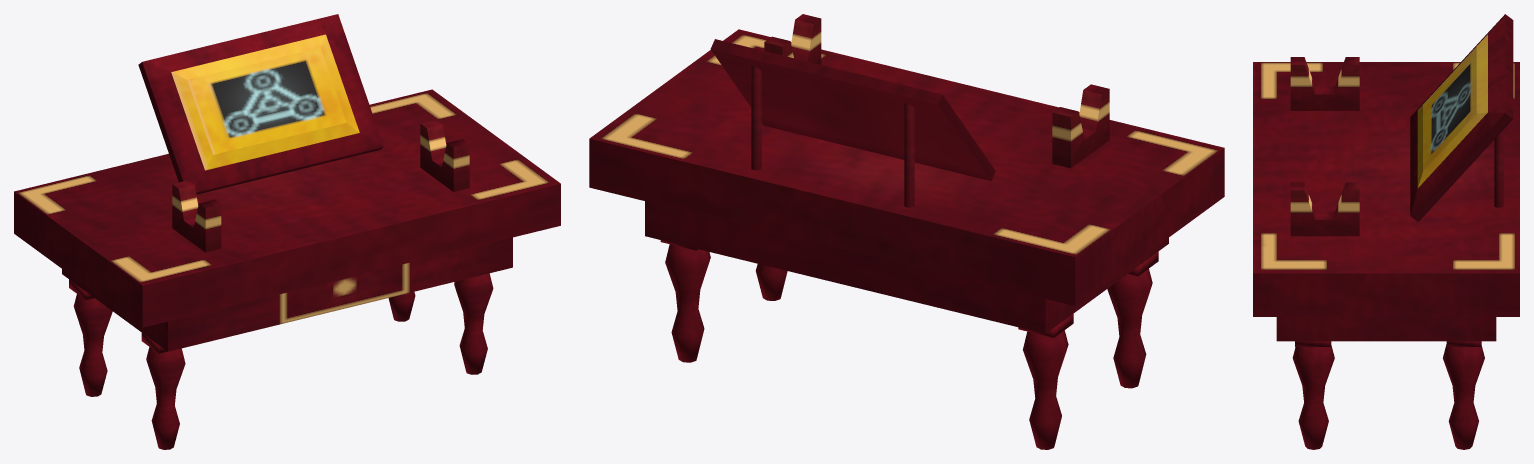
File: object market2-1.FBX
3 renders of one model, left to right at view 1: azimuth 30°, elevation 25°; view 2: azimuth 150°, elevation 25°; view 3: azimuth 270°, elevation 25°, orthographic. The views are drawn at different scales.
Visible parts, largest first — view 1: object market 2-1; view 2: object market 2-1; view 3: object market 2-1.
Part boxes in pixels (<box>): object market 2-1: <box>14,14,560,449</box>; object market 2-1: <box>589,14,1224,449</box>; object market 2-1: <box>1253,14,1519,449</box>.
Bounding box in the file's own units: 242 × 166 × 129.
